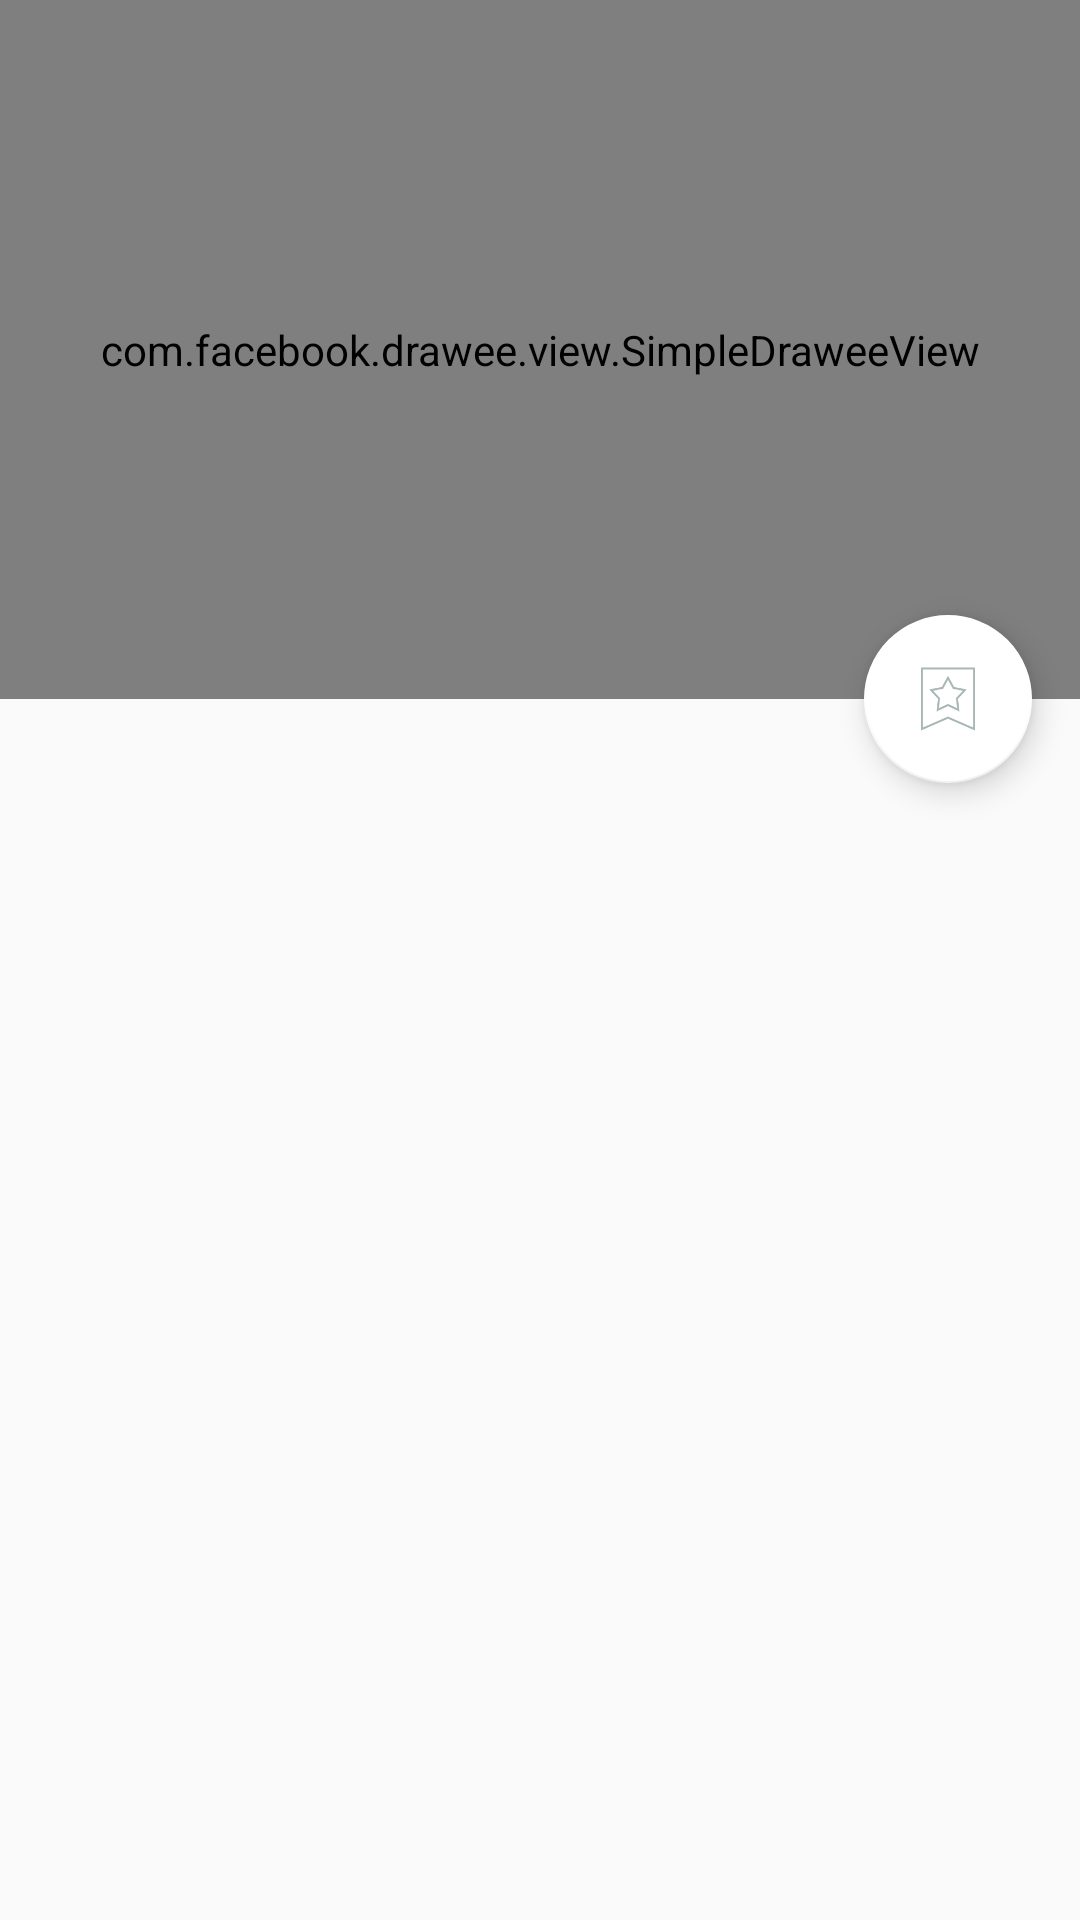

Named icons in this screenshot (1080 x 1920) and their centers, (x=x, y=y):
shoucang: (x=948, y=699)
